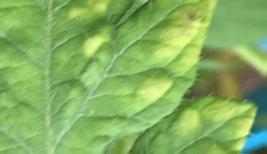Tomato leaf bacterial spot: (0, 0, 253, 154)
